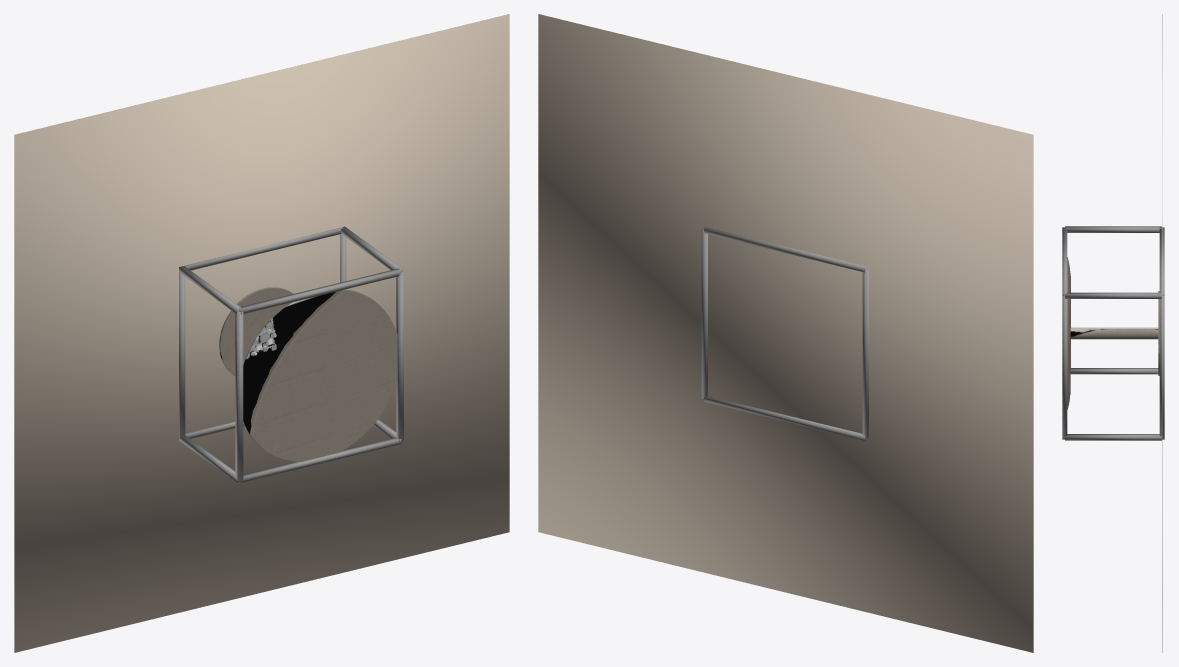
3 views of the same model, side by side, from view 1: azimuth 30°, elevation 25°; view 2: azimuth 150°, elevation 25°; view 3: azimuth 270°, elevation 25° (orthographic). The views are drawn at different scales.
Size of the model in its own units: 2 by 2 by 0.4244.
